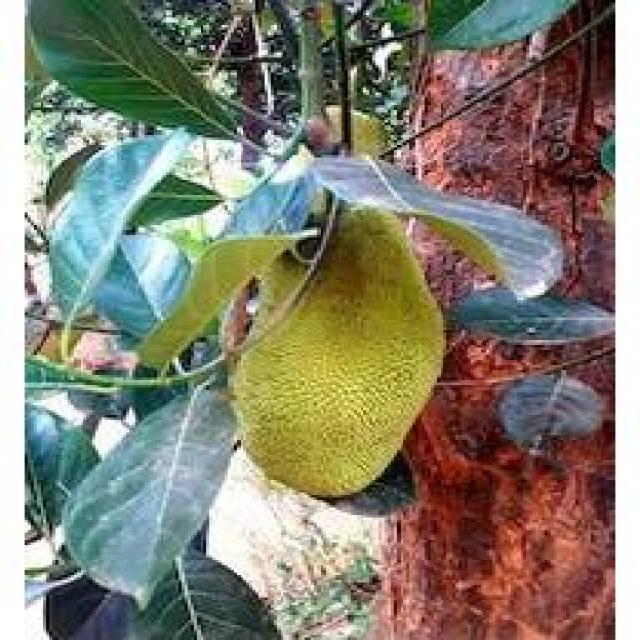Fruit: (197, 192, 474, 538)
